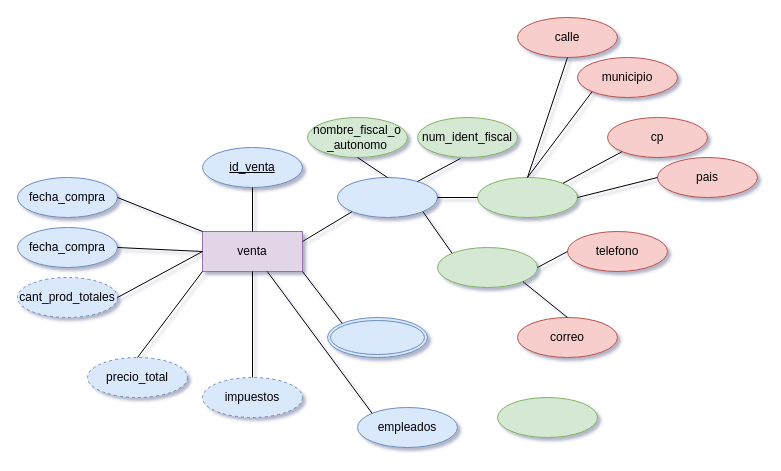
This 781x471 diagram has some shape labels left out. Each missing label, with the centre of its shape:
"datos_contacto" belongs at [487,267].
"datos_facturacion" belongs at [387,197].
"domicilio" belongs at [527,197].
"id_empleado" belongs at [547,417].
"productos" belongs at [377,337].
